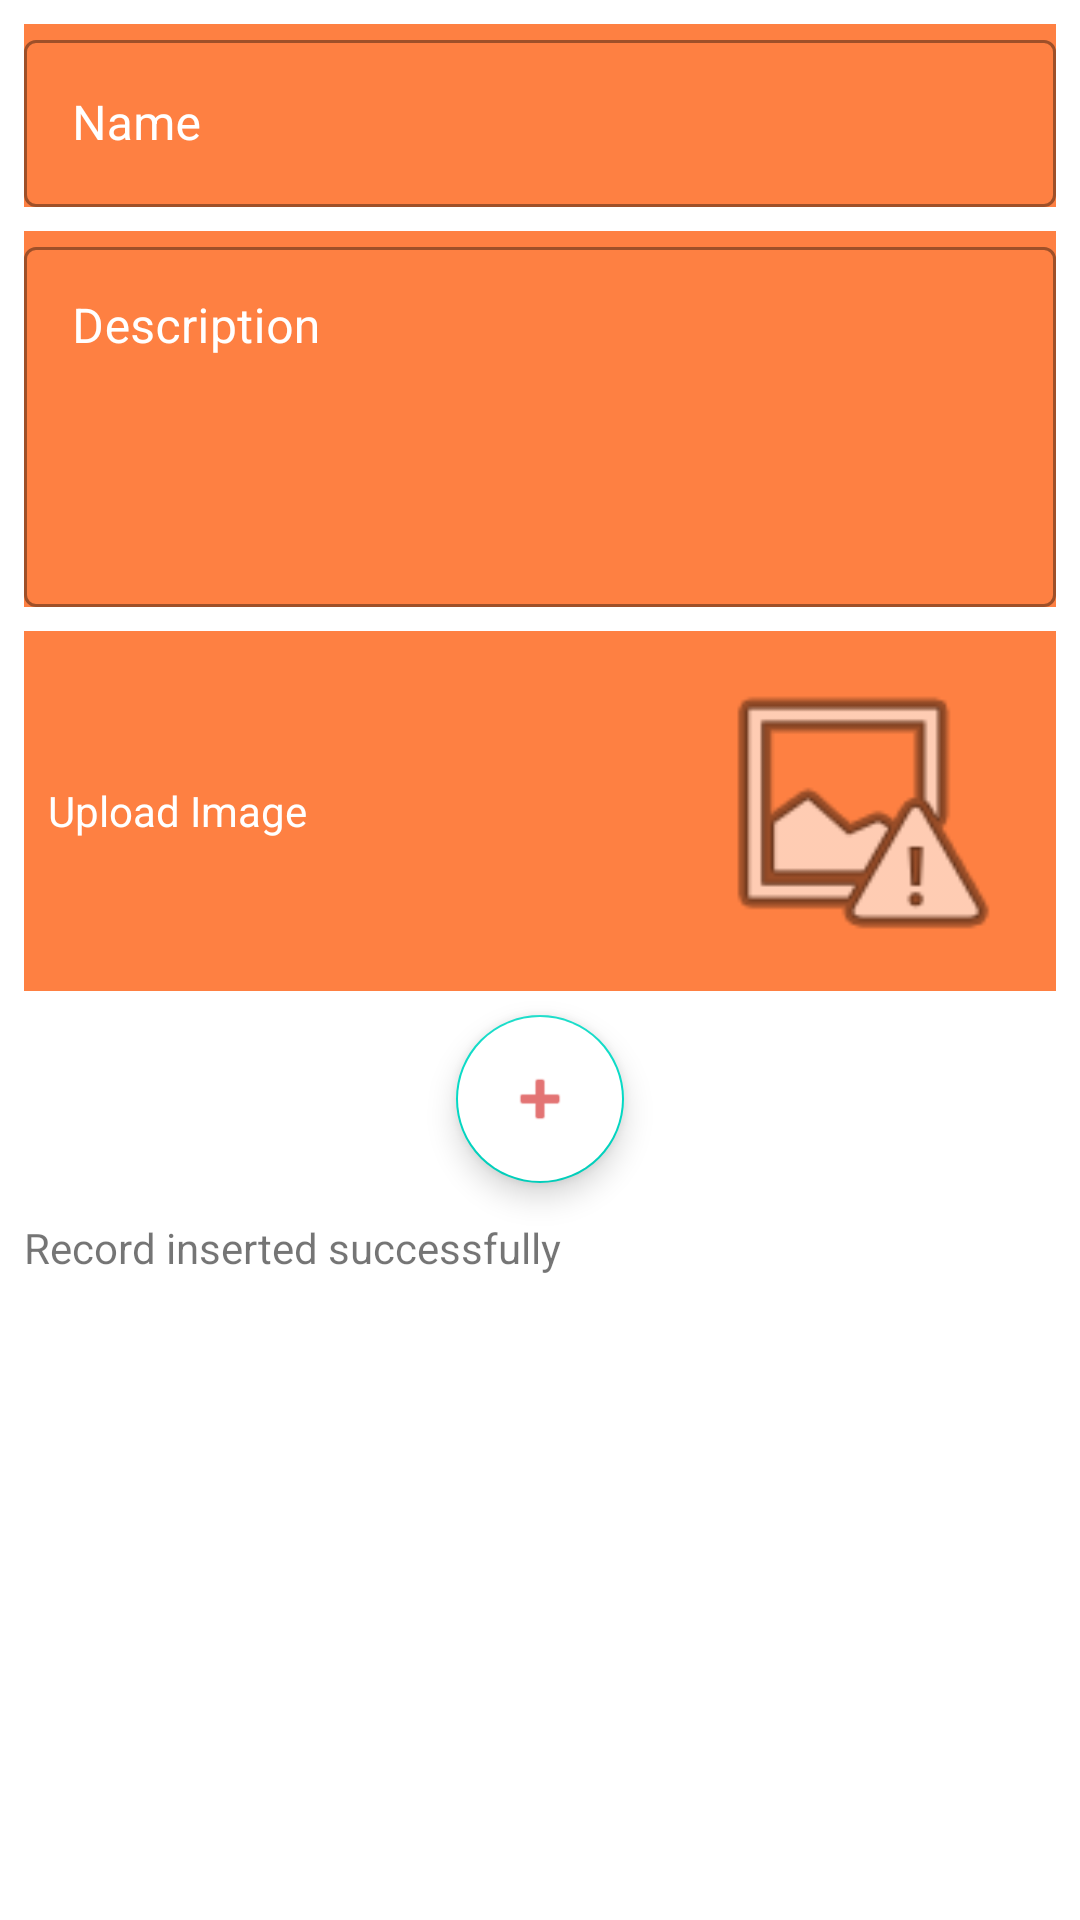

Icon bounding boxes for this 1080px×1920px phone screenshot, format (x1, y1, x2, y2):
Add Unit: (456, 1015, 624, 1183)
